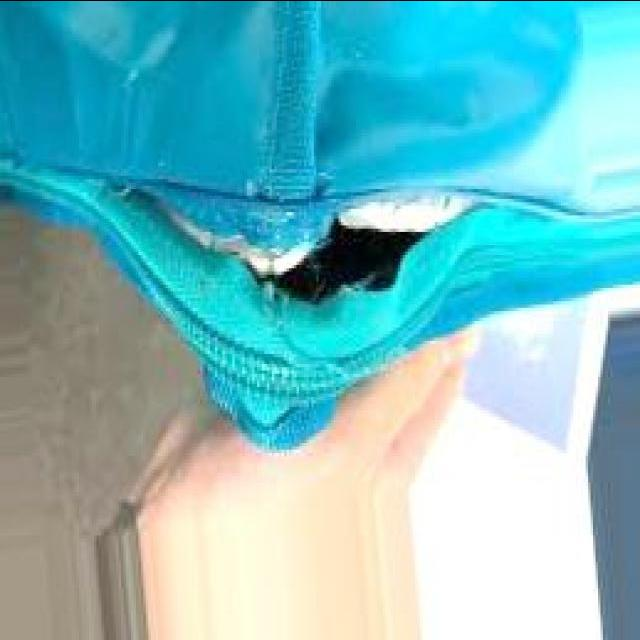Damage-bag: (0, 162, 639, 450)
